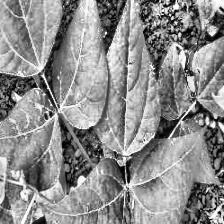ALS: (128, 122, 202, 224), (31, 155, 123, 224), (0, 87, 62, 187)
